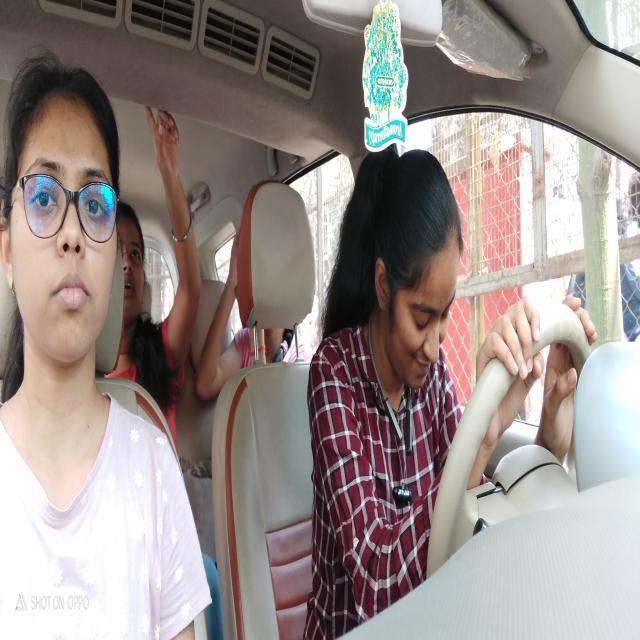drowsy: (386, 137, 467, 430)
person: (2, 55, 130, 397), (116, 193, 151, 335)
